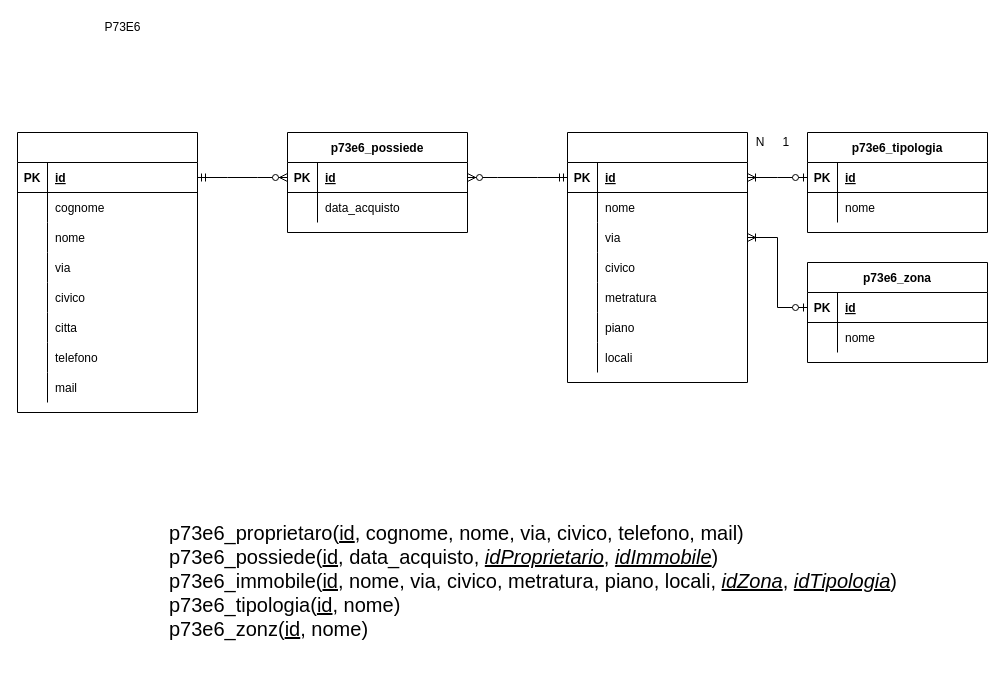
This 1005x681 diagram has some shape labels left out. Each missing label, with the box of its shape:
p73e6_immobile: (566, 132, 748, 382)
p73e6_proprietario: (16, 132, 198, 412)
